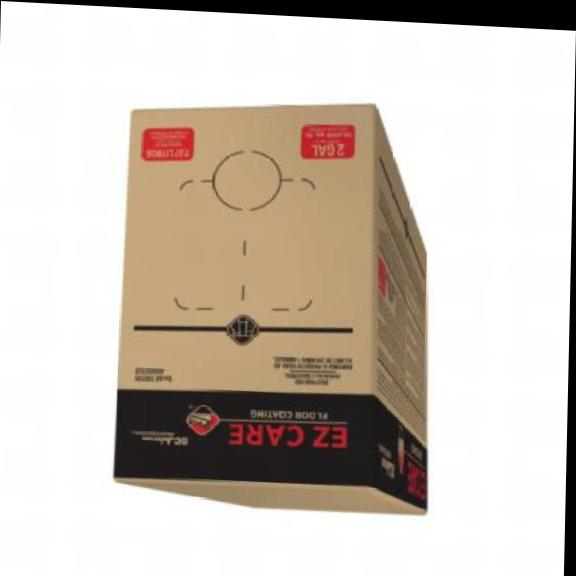Kertas: (113, 104, 427, 513)
